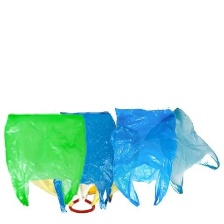plastic_bag: (0, 112, 87, 209), (109, 105, 182, 210), (52, 108, 121, 216), (163, 107, 221, 198)
